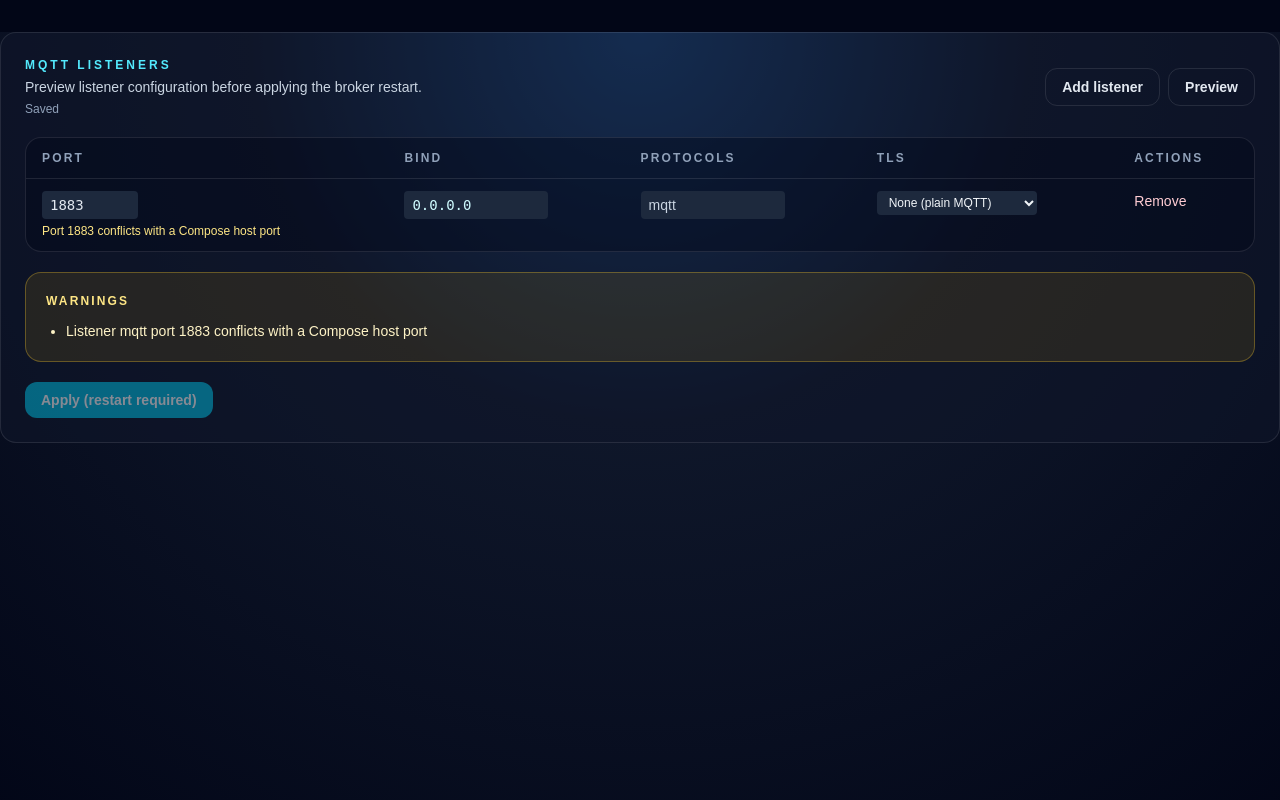
Scenario: ListenersPanel editor › keeps collision warnings non-blocking for Apply
expect the field named "Port mqtt" is shown: met, box [42,191,138,219]
Click the button "Preview".
click(1212, 87)  # box [1168,68,1255,106]
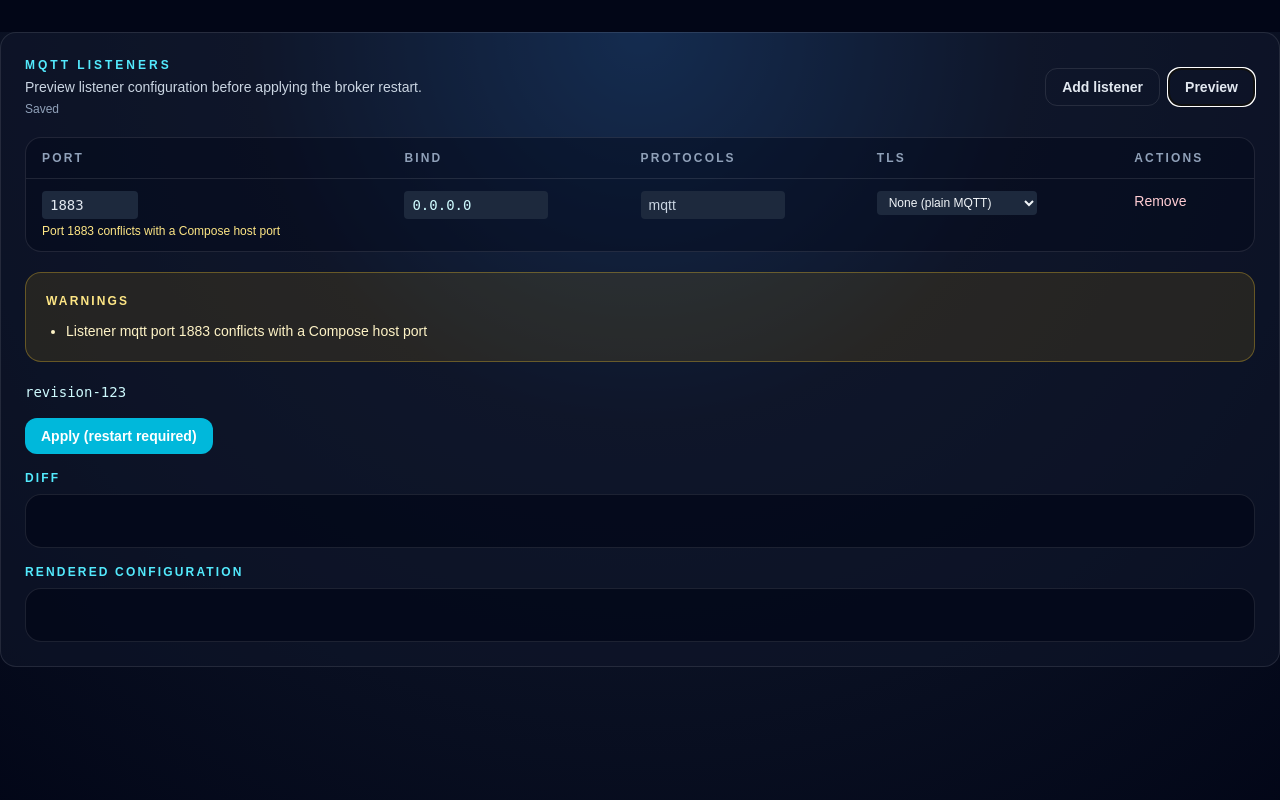
expect the text "Port 1883 conflicts with a Compose host port" is shown: met, box [42,224,280,238]
expect the text "revision-123" is shown: met, box [25,384,126,400]
expect the button "Apply (restart required)" is enabled: met, box [25,418,213,454]
